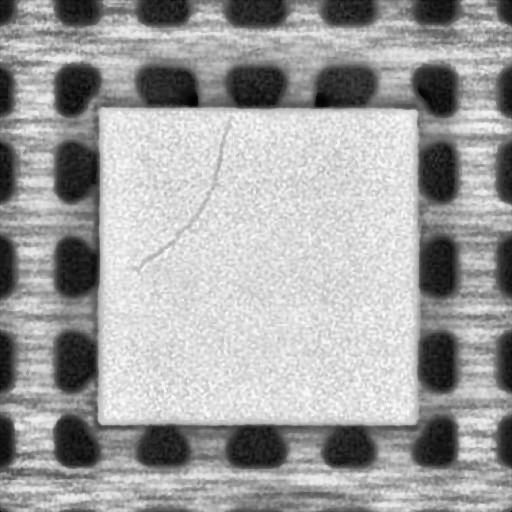DIE_CRACK: (130, 112, 230, 274)
